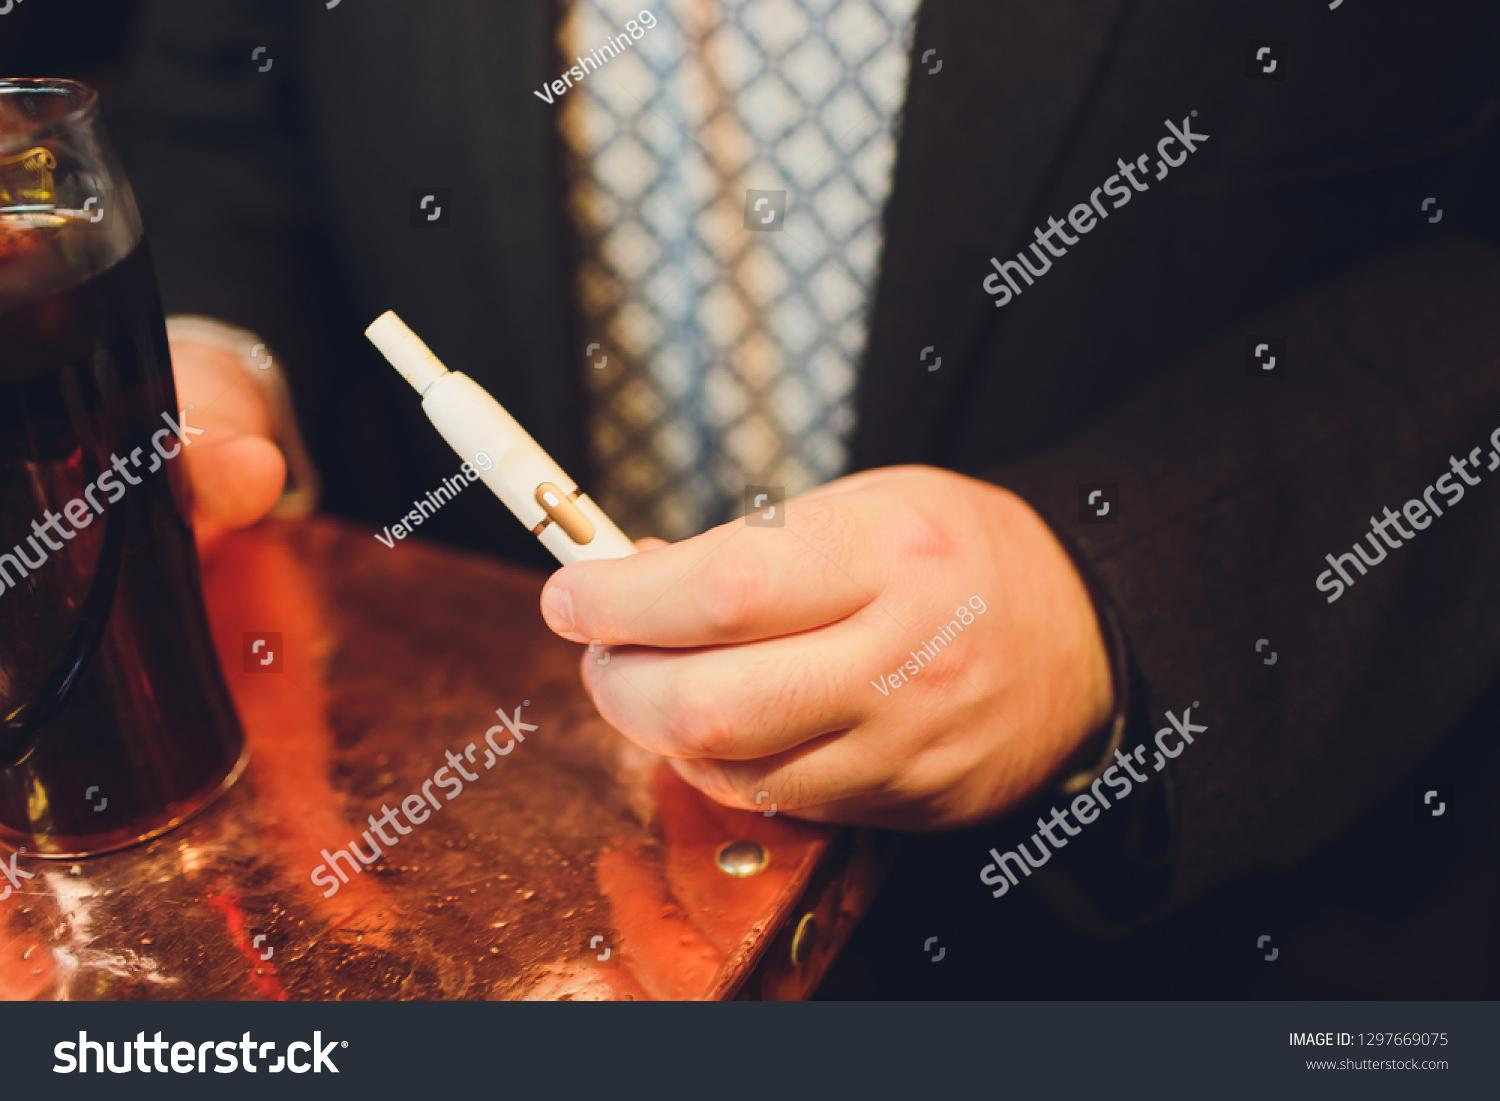iqos: (367, 313, 635, 562)
